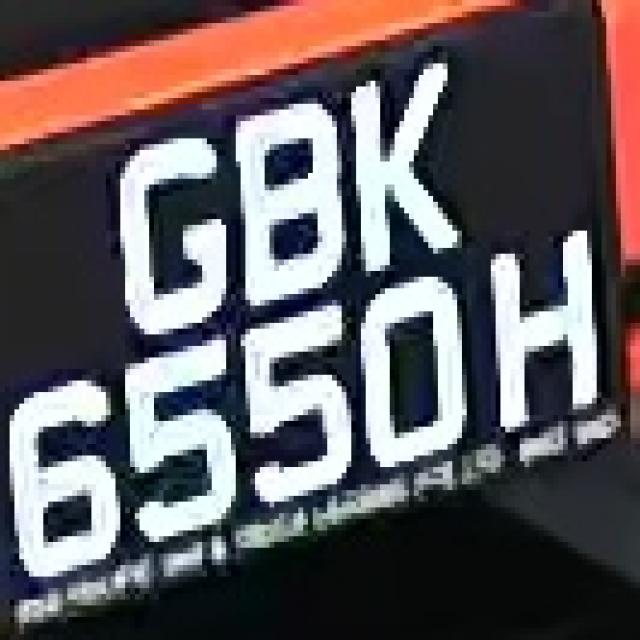0: (346, 265, 467, 496)
5: (236, 282, 366, 519), (115, 328, 236, 554)
6: (20, 358, 120, 606)
B: (212, 92, 356, 312)
G: (101, 121, 236, 329)
H: (472, 225, 606, 444)
K: (342, 58, 466, 271)
